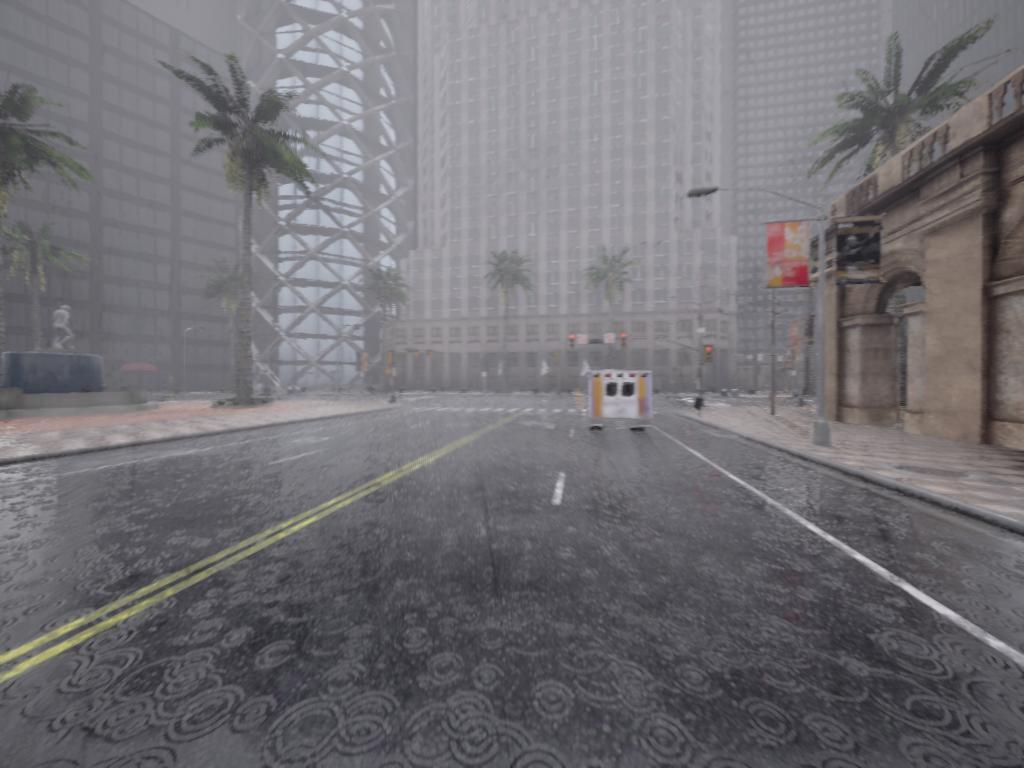traffic_light: (361, 354, 370, 374), (705, 348, 716, 363), (571, 335, 584, 347), (567, 335, 578, 347), (621, 333, 629, 349), (388, 351, 394, 367), (413, 348, 420, 359), (429, 349, 434, 360)
